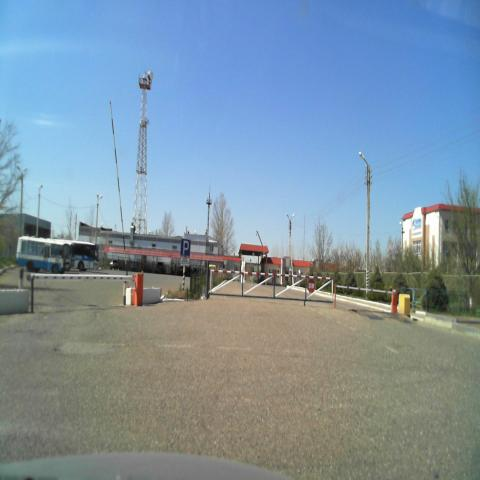2_5: (306, 277, 316, 292)
